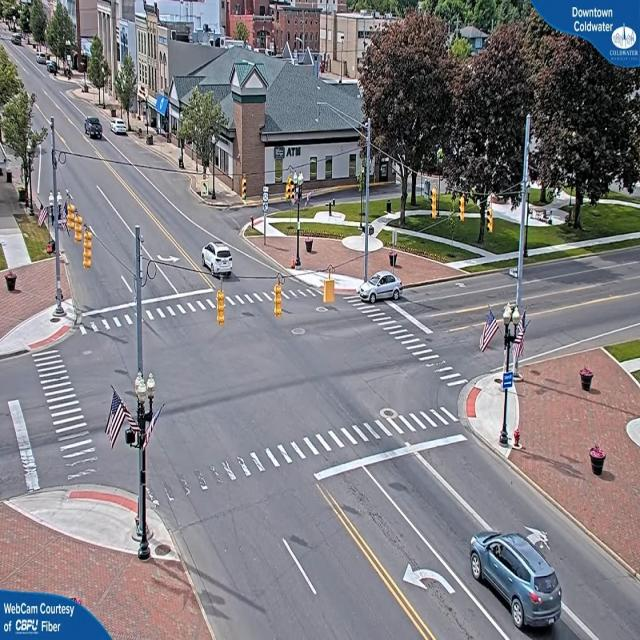car: (470, 529, 565, 632), (359, 273, 404, 305), (202, 241, 236, 279), (85, 118, 104, 140), (111, 119, 130, 138)
